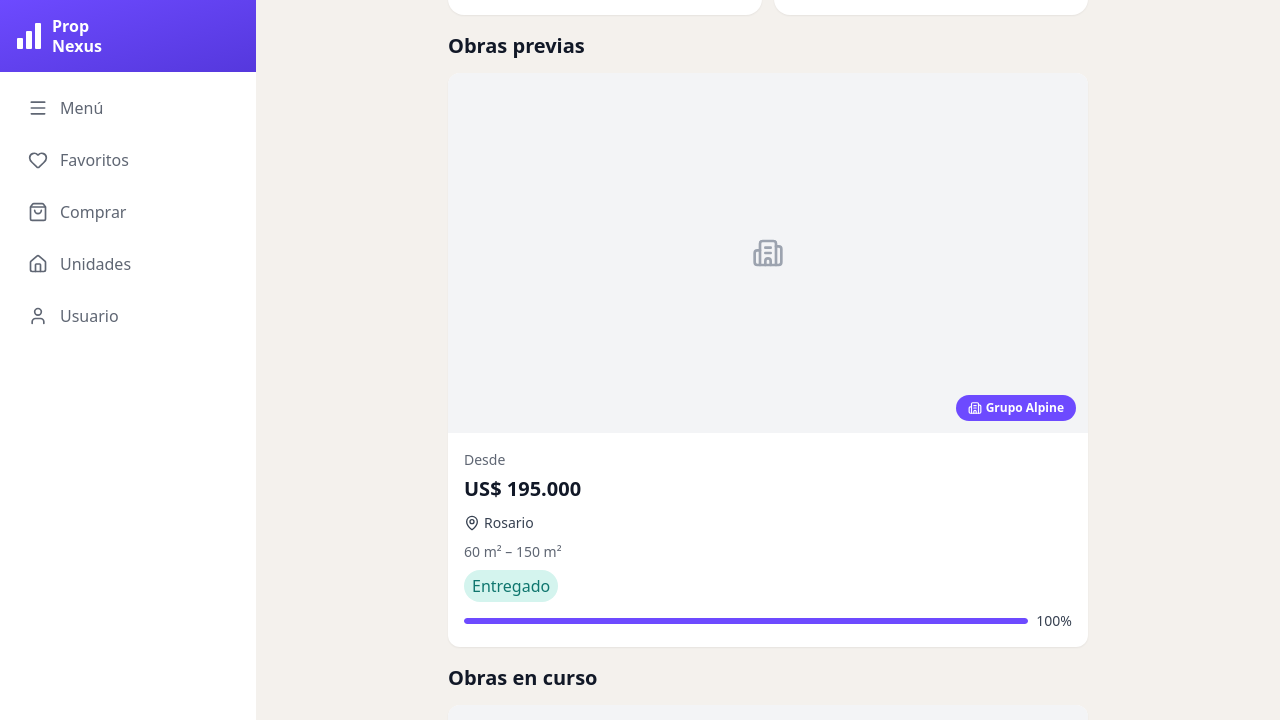
Scenario: /project/:projectId/developer (investor) › abrir una obra lleva a su detalle
The image size is (1280, 720).
(page scrolled)
Click the 1st button: x=768, y=360 [448,73,1088,647]
(page scrolled)
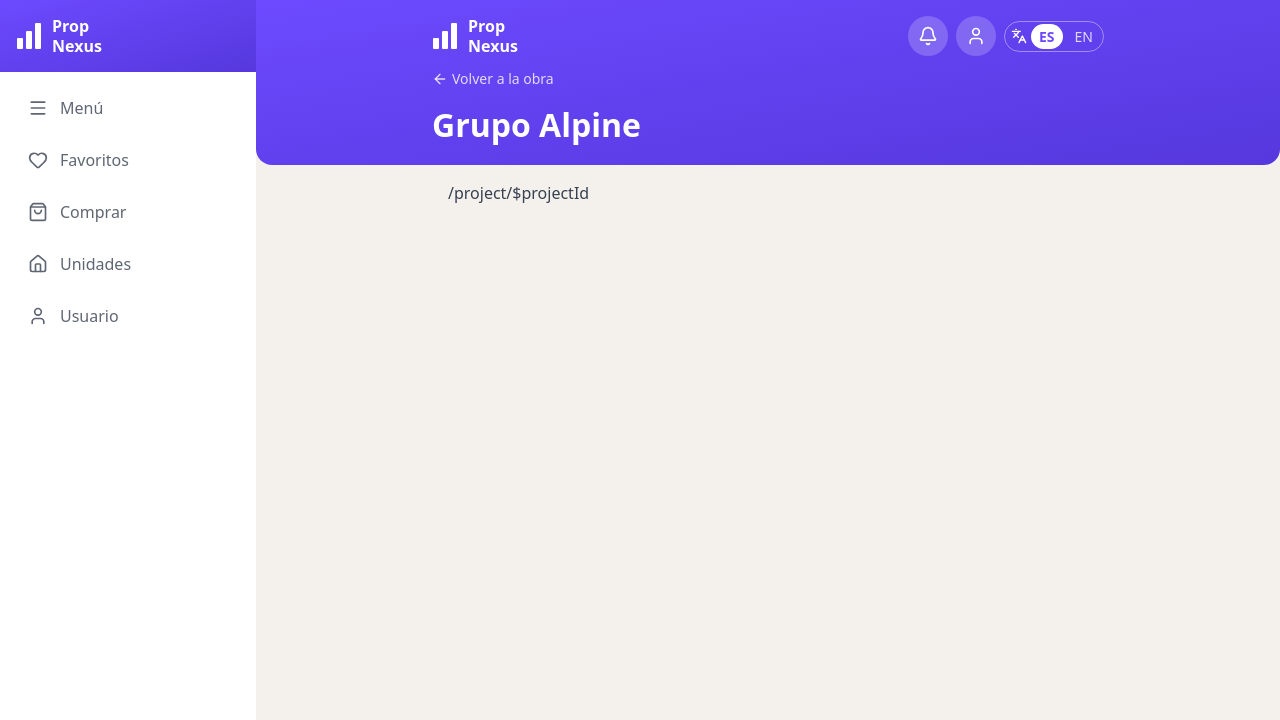
Result: the text "/project/$projectId" is shown at [448,182,589,204]
